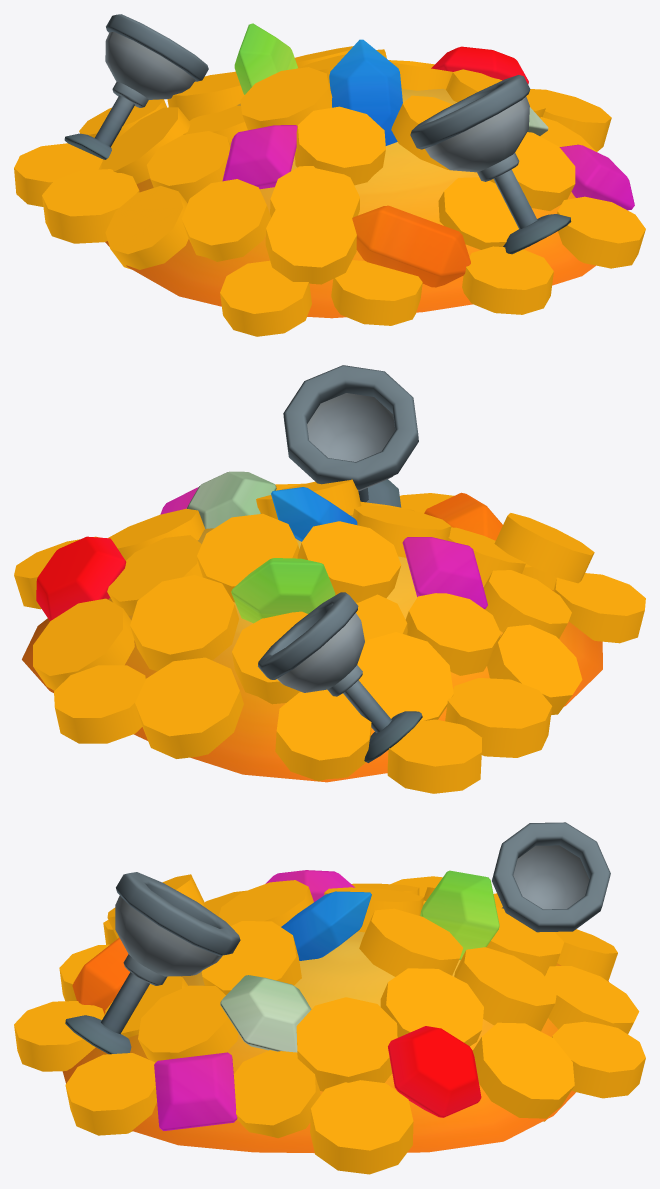
The model's file is GoldPileMiddle_001.glb.
3 views of the same model, one above another, from view 1: azimuth 30°, elevation 25°; view 2: azimuth 150°, elevation 25°; view 3: azimuth 270°, elevation 25° (orthographic). The views are drawn at different scales.
Parts seen in each view (by area): view 1: GoldPileMiddle_001; view 2: GoldPileMiddle_001; view 3: GoldPileMiddle_001.
Boxes of the visible parts, left/top/right/bottom form: GoldPileMiddle_001: left=14, top=14, right=645, bottom=336; GoldPileMiddle_001: left=14, top=365, right=645, bottom=793; GoldPileMiddle_001: left=14, top=822, right=645, bottom=1174.
Bounding box in the file's own units: 1.97 × 0.6641 × 1.95.
2 materials, 2 textured.
